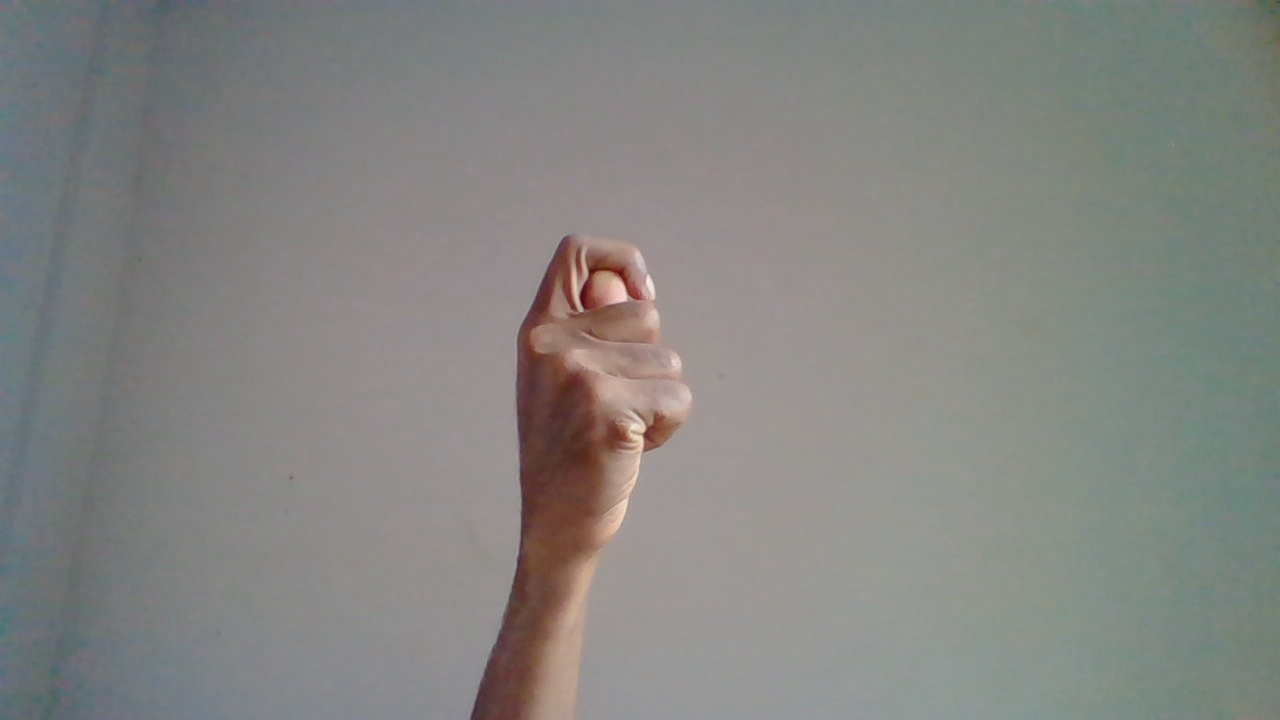che: (513, 233, 693, 705)
